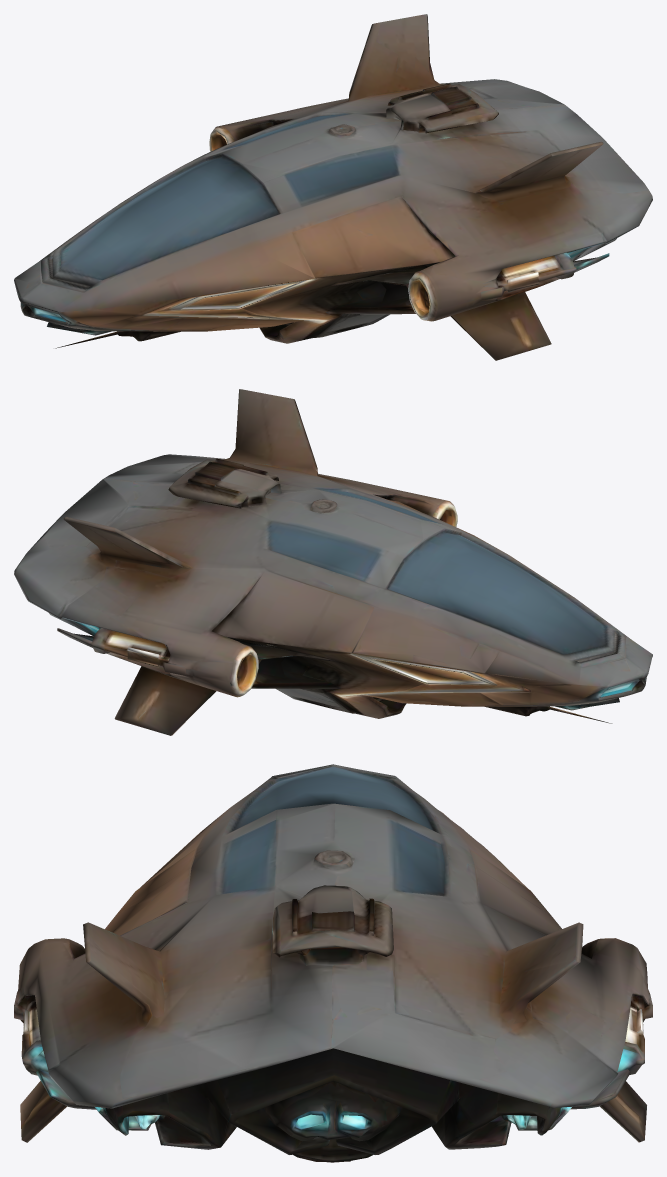
File: AVION.glb
3 views of the same model, one above another, from view 1: azimuth 30°, elevation 25°; view 2: azimuth 150°, elevation 25°; view 3: azimuth 270°, elevation 25° (orthographic). The views are drawn at different scales.
Parts seen in each view (by area): view 1: node_0; view 2: node_0; view 3: node_0.
Boxes of the visible parts, left/top/right/bottom form: node_0: left=14, top=14, right=652, bottom=360; node_0: left=14, top=389, right=652, bottom=735; node_0: left=14, top=764, right=652, bottom=1162.
Size of the model in its own units: 1.07 by 0.3794 by 0.7729.
1 material, 1 textured.
